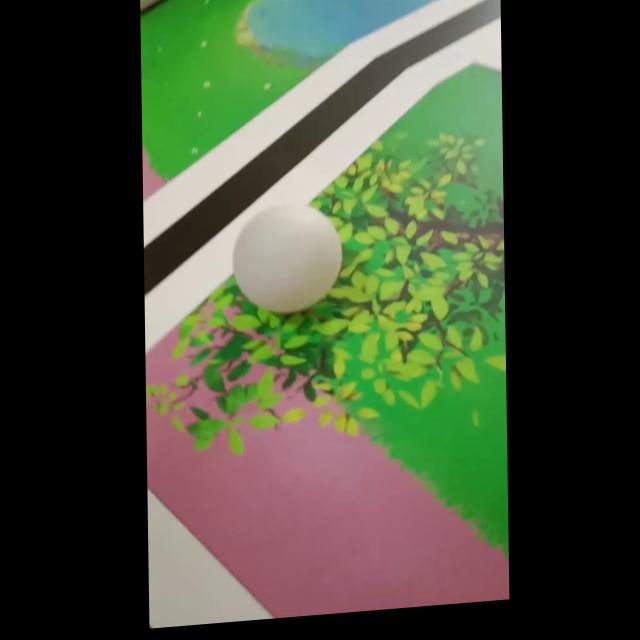white ball: (230, 199, 344, 319)
